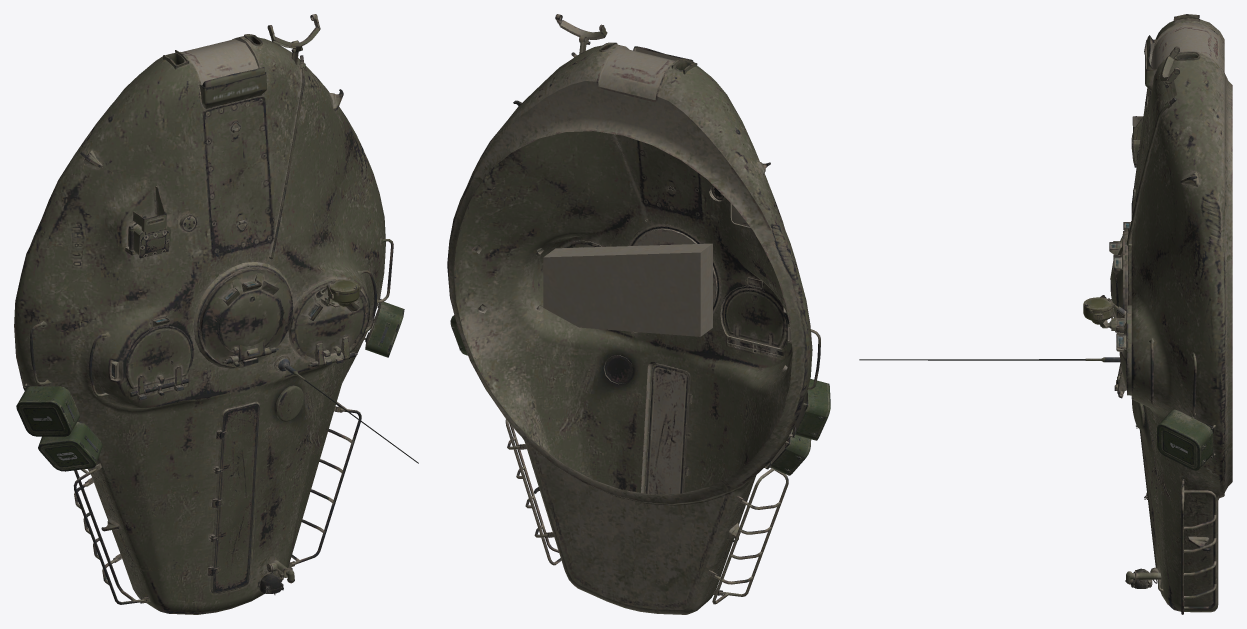
File: Turret_01.glb
3 views of the same model, side by side, from view 1: azimuth 30°, elevation 25°; view 2: azimuth 150°, elevation 25°; view 3: azimuth 270°, elevation 25° (orthographic). The views are drawn at different scales.
Visible parts, largest first — view 1: set_0_group_0; view 2: set_0_group_0; view 3: set_0_group_0.
Boxes of the visible parts, box(x1,y1,x2,y2) form: set_0_group_0: box(14, 14, 418, 614); set_0_group_0: box(447, 14, 830, 614); set_0_group_0: box(859, 14, 1232, 614).
Size of the model in its own units: 3.45 by 4.87 by 2.88.
1 material, 1 textured.
